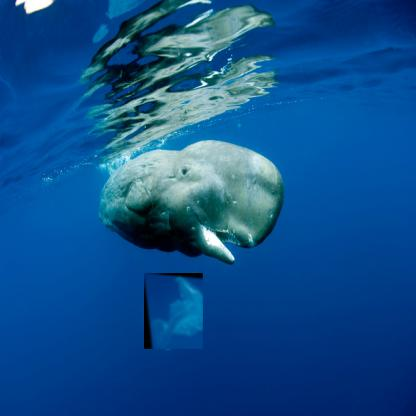waste: (144, 273, 204, 350)
